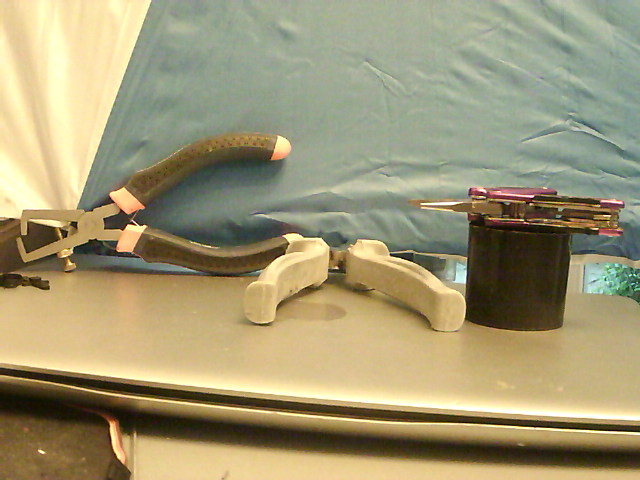pliers: (244, 232, 470, 330), (414, 184, 628, 241)
